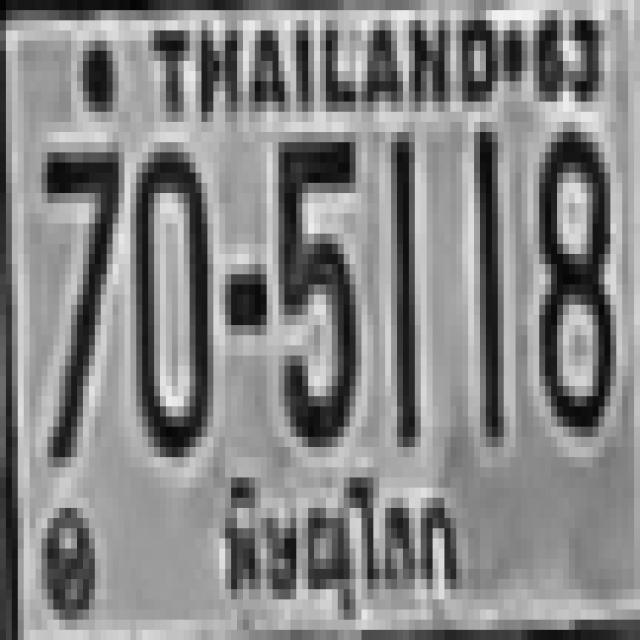0: (130, 142, 208, 447)
1: (471, 122, 501, 437), (388, 127, 412, 442)
5: (276, 132, 352, 437)
7: (42, 142, 118, 457)
8: (536, 122, 608, 427)
Phitsanulok: (212, 461, 462, 611)
